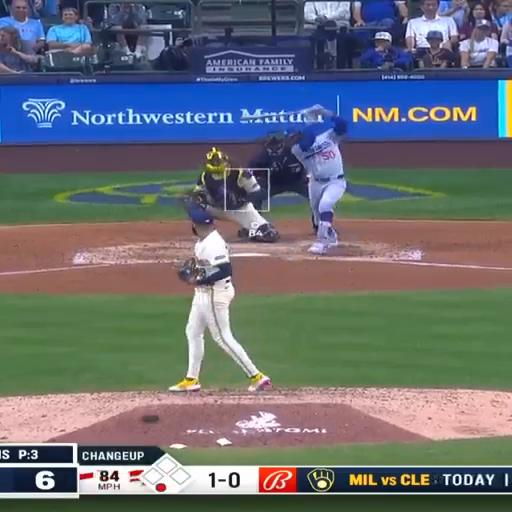bat: (240, 111, 301, 120)
